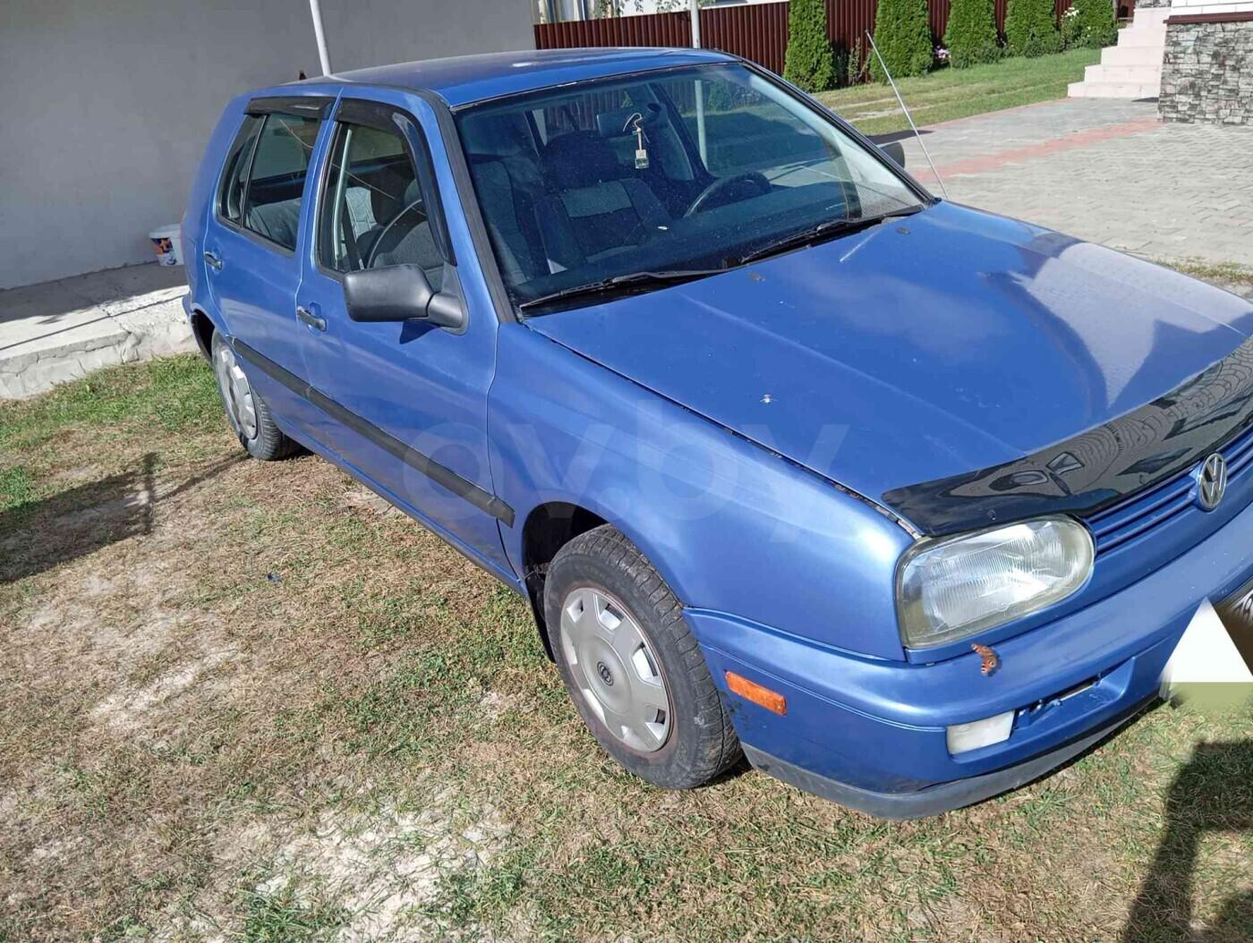Golf_1991-2000: (177, 38, 1253, 813)
